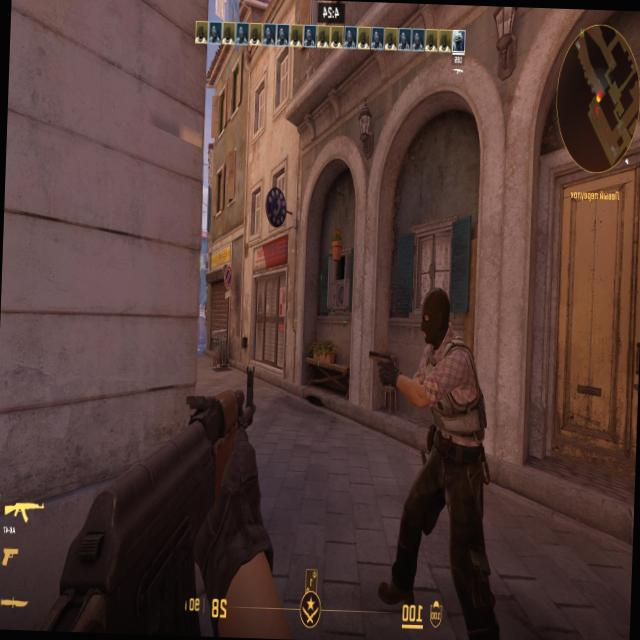T: (412, 286, 466, 530)
T_heat: (431, 296, 446, 328)
